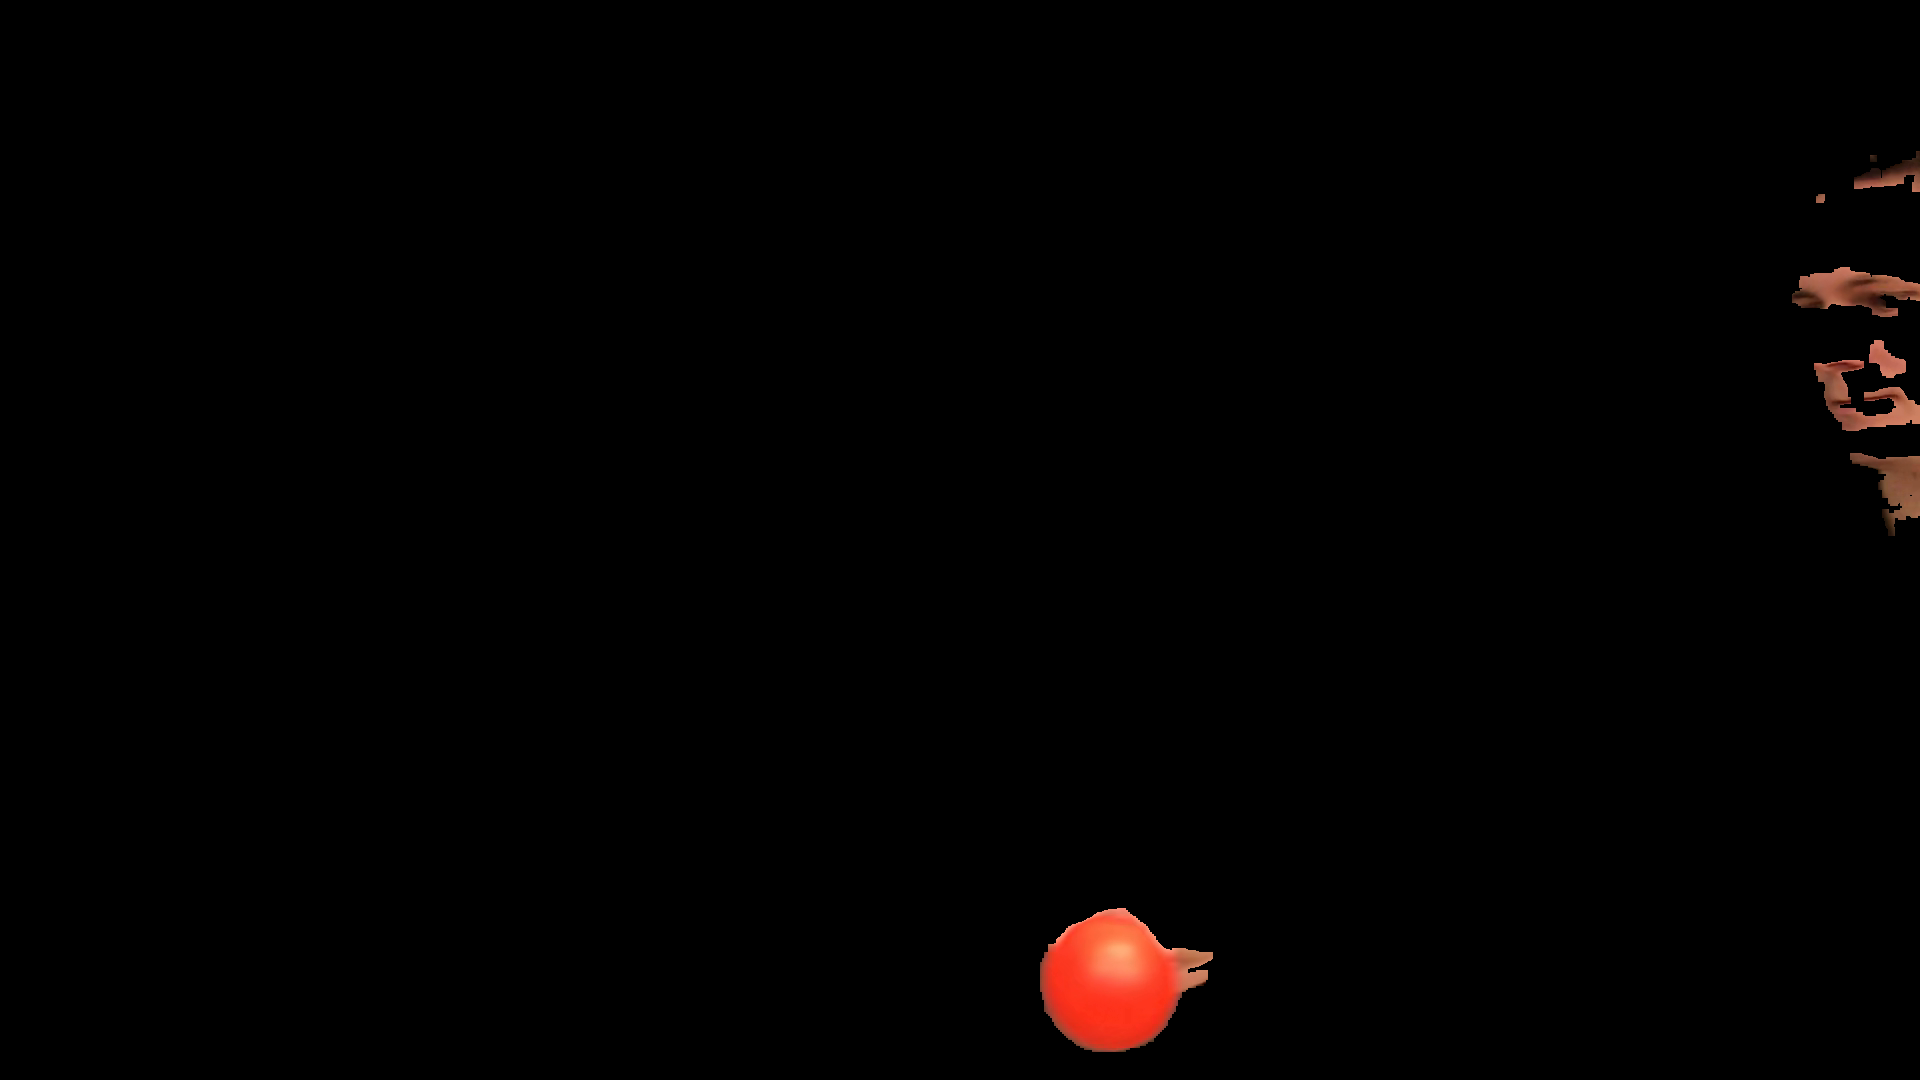Ball: (1042, 915, 1180, 1046)
